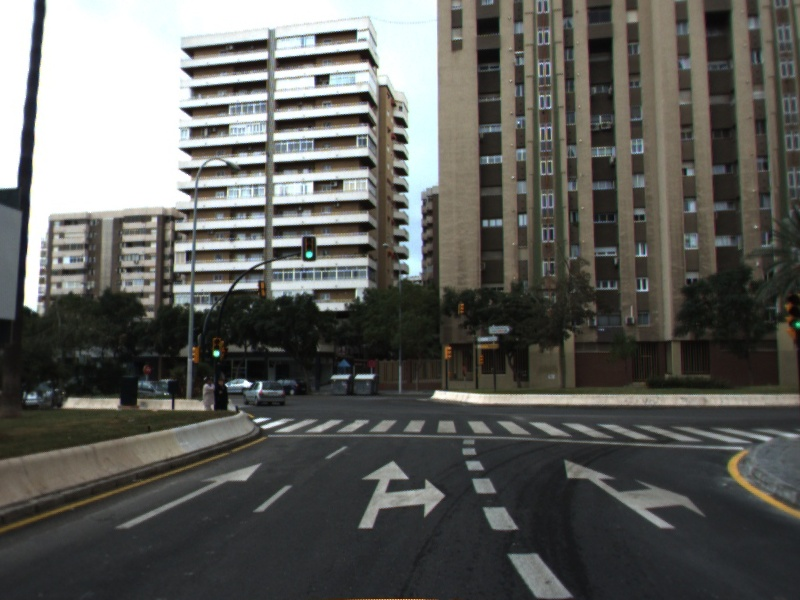STRAIGHT: (114, 460, 265, 531)
STRAIGHT_RIGHT: (563, 458, 709, 531), (355, 457, 448, 530)
